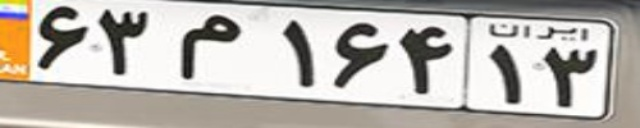1: (283, 18, 314, 86), (490, 43, 521, 103)
3: (542, 45, 597, 108), (98, 7, 149, 74)
4: (399, 25, 452, 95)
6: (33, 4, 89, 70), (333, 21, 387, 89)
mim: (180, 14, 241, 81)
